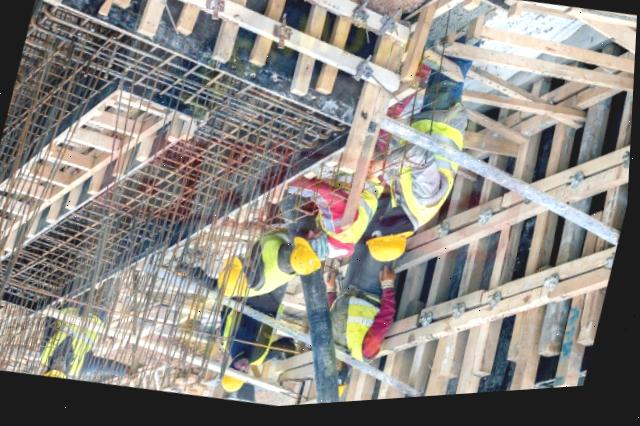helmet: (363, 227, 420, 274), (213, 255, 260, 307), (286, 240, 332, 285), (218, 372, 255, 400), (48, 367, 75, 382)
vest: (380, 118, 470, 238), (316, 163, 387, 253), (324, 291, 393, 375), (216, 297, 291, 374), (40, 305, 113, 377), (248, 238, 303, 306)
